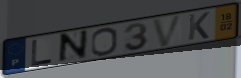3: (122, 21, 150, 52)
K: (187, 11, 211, 42)
L: (30, 38, 54, 67)
N: (57, 28, 90, 66)
O: (90, 26, 120, 57)
V: (150, 13, 185, 49)
